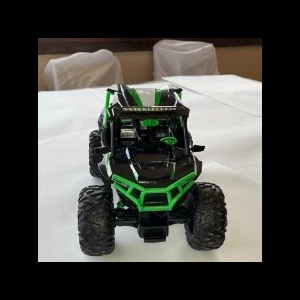polaris: (77, 81, 229, 257)
